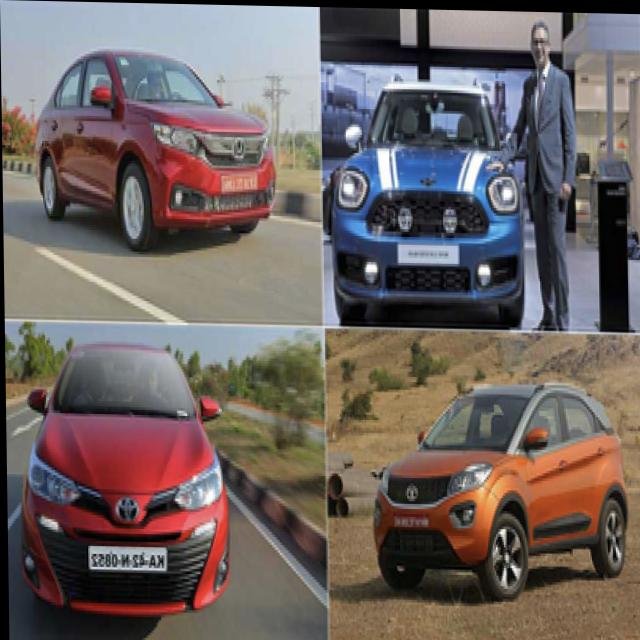licence: (81, 538, 169, 586), (213, 157, 263, 207), (406, 240, 456, 262), (390, 509, 435, 531)
